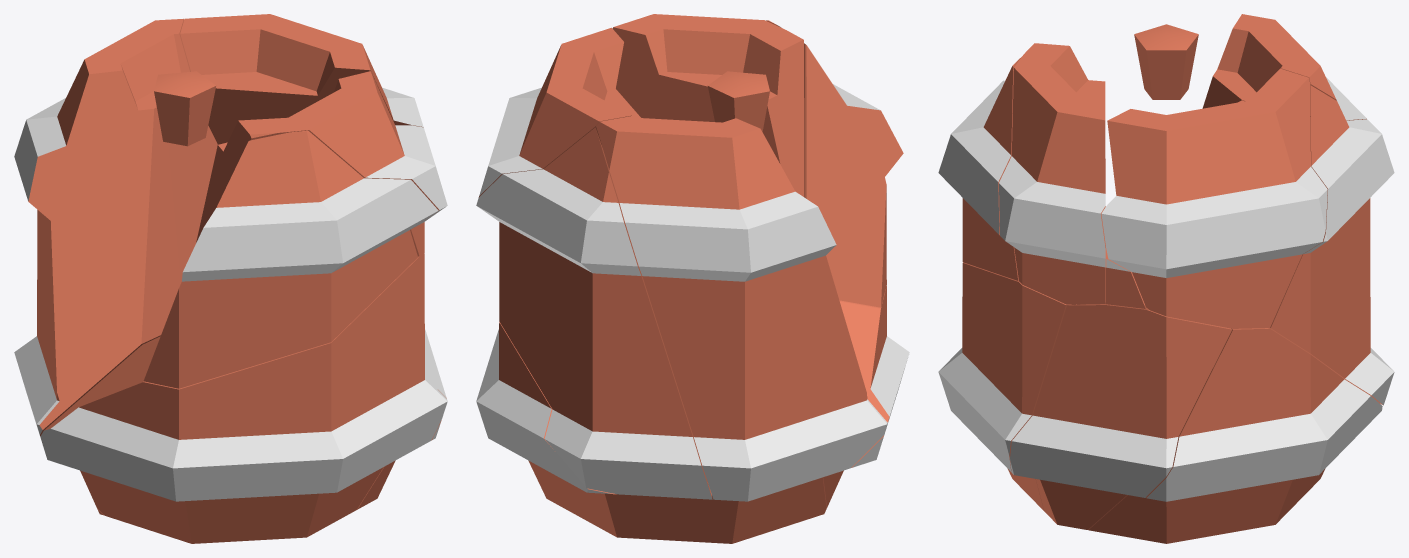
The model's file is barall crack.fbx.
3 renders of one model, left to right at view 1: azimuth 30°, elevation 25°; view 2: azimuth 150°, elevation 25°; view 3: azimuth 270°, elevation 25°, orthographic.
Parts seen in each view (by area): view 1: barrel_small_cell, barrel_small_cell.004, barrel_small_cell.003, barrel_small_cell.008, barrel_small_cell.005, barrel_small_cell.001, barrel_small_cell.009; view 2: barrel_small_cell.004, barrel_small_cell.006, barrel_small_cell.007, barrel_small_cell.005, barrel_small_cell.003, barrel_small_cell.008, barrel_small_cell, barrel_small_cell.001; view 3: barrel_small_cell.008, barrel_small_cell.007, barrel_small_cell.009, barrel_small_cell.005, barrel_small_cell.006, barrel_small_cell, barrel_small_cell.003, barrel_small_cell.004, barrel_small_cell.001, barrel_small_cell.002.
Boxes of the visible parts, <box> form: barrel_small_cell: <box>40,253,447,543</box>; barrel_small_cell.004: <box>14,18,217,439</box>; barrel_small_cell.003: <box>143,130,438,388</box>; barrel_small_cell.008: <box>180,14,423,144</box>; barrel_small_cell.005: <box>196,71,447,256</box>; barrel_small_cell.001: <box>154,71,215,146</box>; barrel_small_cell.009: <box>357,329,446,509</box>; barrel_small_cell.004: <box>596,116,887,501</box>; barrel_small_cell.006: <box>476,127,712,499</box>; barrel_small_cell.007: <box>476,322,826,543</box>; barrel_small_cell.005: <box>612,14,804,196</box>; barrel_small_cell.003: <box>766,20,903,307</box>; barrel_small_cell.008: <box>478,27,640,197</box>; barrel_small_cell: <box>822,286,909,507</box>; barrel_small_cell.001: <box>708,71,769,131</box>; barrel_small_cell.008: <box>1101,68,1327,328</box>; barrel_small_cell.007: <box>1088,328,1382,543</box>; barrel_small_cell.009: <box>1010,303,1231,529</box>; barrel_small_cell.005: <box>999,43,1105,304</box>; barrel_small_cell.006: <box>1269,85,1394,405</box>; barrel_small_cell: <box>938,247,1145,510</box>; barrel_small_cell.003: <box>938,57,1105,280</box>; barrel_small_cell.004: <box>1202,14,1366,120</box>; barrel_small_cell.001: <box>1134,24,1198,99</box>; barrel_small_cell.002: <box>1106,259,1145,308</box>.
Bounding box in the file's own units: 100 × 102 × 100.
